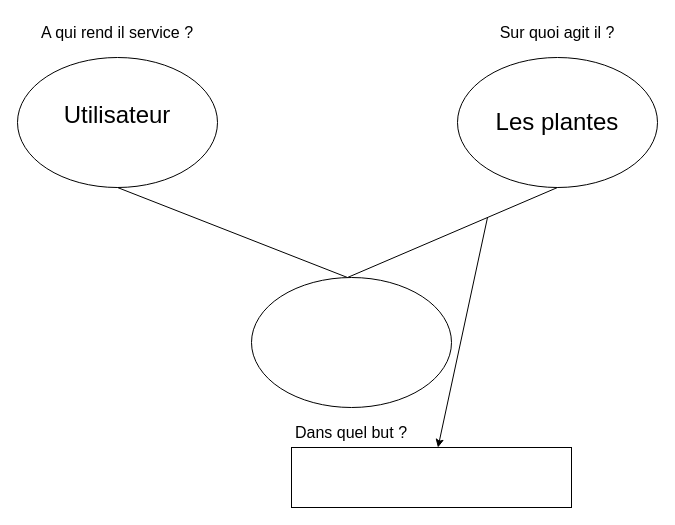
Image size: 675x525. Some labels were removed from this diagram. The box of each missing label's shape, as (x1, y1, x2, y2) in pixels:
Automatiser la serre: (290, 446, 572, 508)
Serre automatique: (250, 276, 452, 408)
